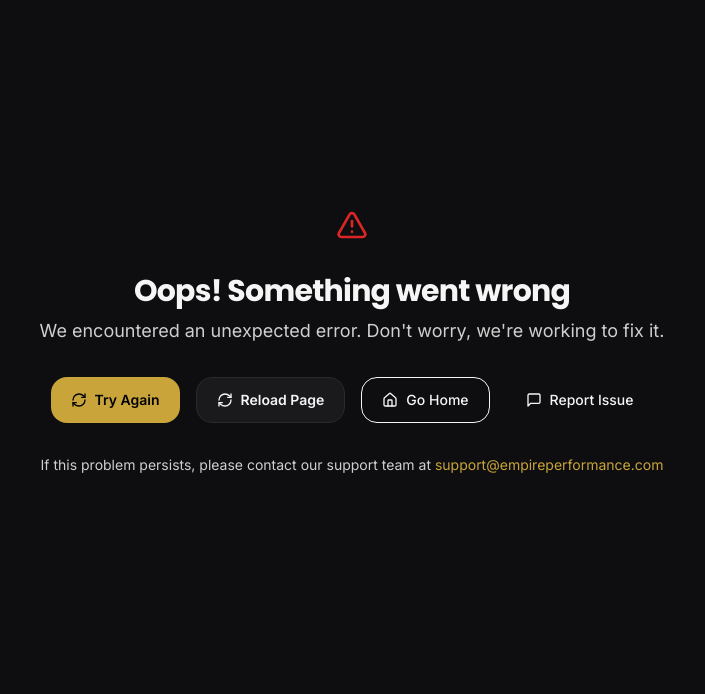
Test case: ErrorBoundary Component › User Feedback System › should hide feedback form when Cancel is clicked
The image size is (705, 694).
Note: Show feedback form
Click the button "Report Issue" at point(580, 400), box [506,377,654,423]
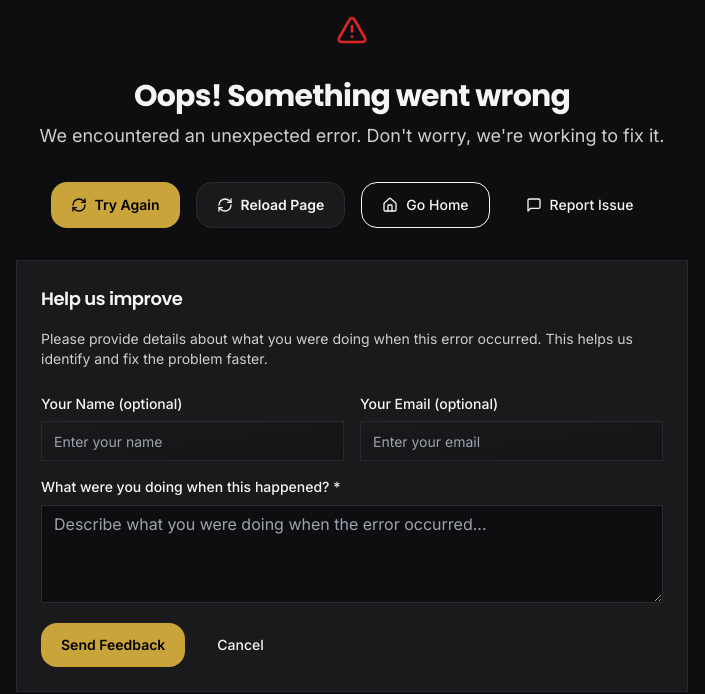
Expected: the heading "Help us improve" is shown, [41,286,182,311]
Note: Hide feedback form
Click the button "Cancel" at point(241, 645), box [197,623,284,667]
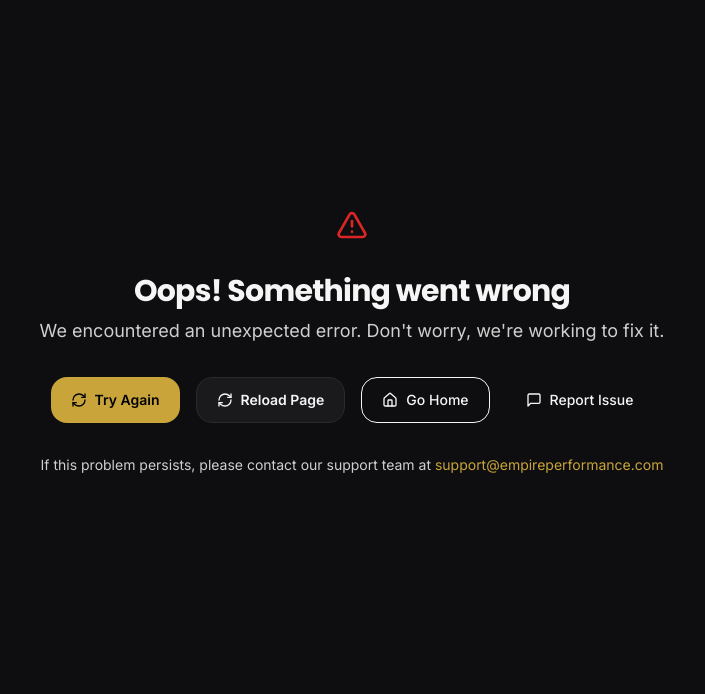
Expected: the heading "Help us improve" is gone
